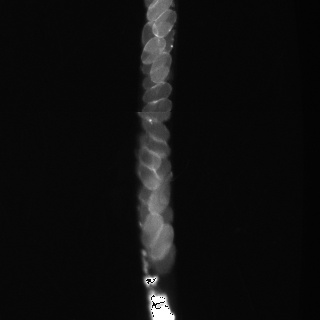embryo: (141, 37, 167, 66), (143, 116, 170, 143), (141, 213, 163, 246), (141, 173, 164, 204), (153, 224, 173, 259), (140, 134, 170, 157), (151, 52, 173, 83), (154, 244, 176, 274), (149, 182, 170, 213), (150, 206, 173, 234), (142, 82, 171, 104), (144, 66, 171, 89), (141, 51, 168, 74), (153, 10, 176, 37), (138, 163, 160, 190), (151, 151, 171, 180), (142, 21, 160, 53), (158, 21, 174, 53), (140, 147, 160, 171), (142, 98, 172, 113), (136, 112, 170, 123)
